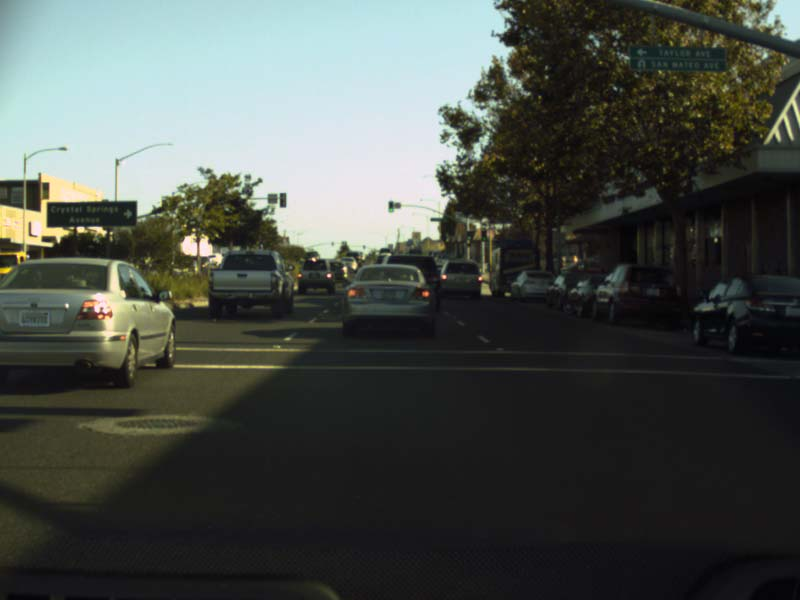Green: (387, 201, 393, 212)
